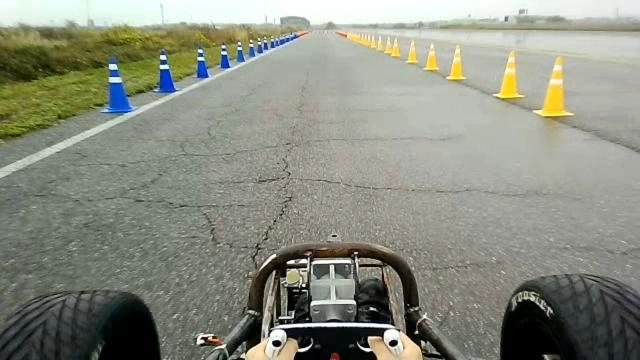blue cone: (99, 56, 136, 114), (152, 48, 178, 93), (192, 44, 210, 78), (218, 42, 231, 68), (236, 40, 246, 62), (256, 38, 264, 54), (248, 39, 255, 57), (262, 36, 269, 51), (270, 35, 276, 48)
yellow cone: (533, 55, 574, 117), (492, 49, 526, 100), (446, 44, 466, 80), (423, 42, 439, 71), (406, 38, 418, 63), (390, 37, 401, 57), (383, 36, 392, 54), (376, 35, 384, 51), (370, 35, 376, 48)
